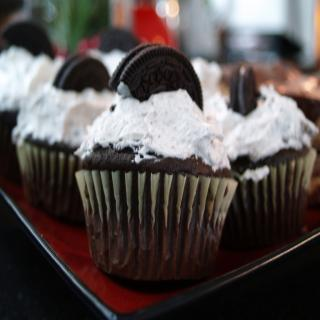Cookie: (112, 41, 206, 114), (53, 52, 109, 90), (0, 19, 54, 58), (230, 63, 258, 117)
Muffin: (62, 49, 262, 282), (212, 63, 318, 250), (11, 52, 120, 224), (0, 19, 63, 178), (89, 25, 142, 77), (185, 58, 228, 118)
